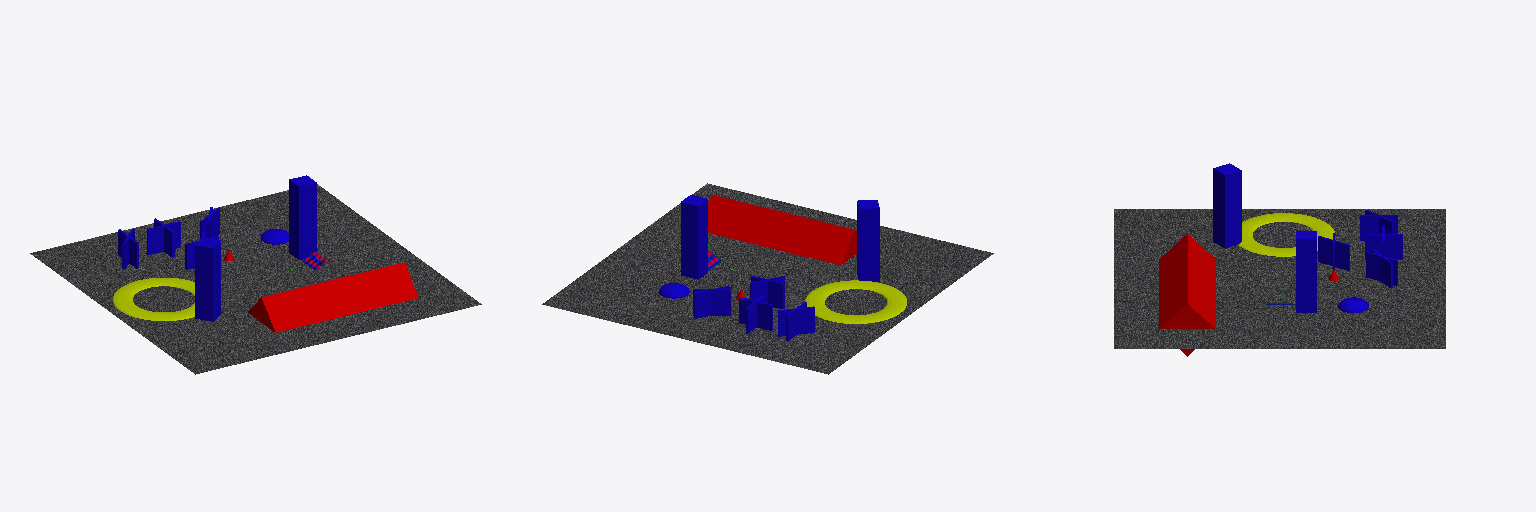
3 renders of one model, left to right at view 1: azimuth 30°, elevation 25°; view 2: azimuth 150°, elevation 25°; view 3: azimuth 270°, elevation 25°, orthographic.
Visible parts, largest first — view 1: Plane, Cube.036, Cube.037, Cube.038, Torus, Cube.044; view 2: Plane, Cube.036, Torus, Cube.037, Cube.038, Cube.045, Cube.044, Cube.042; view 3: Plane, Cube.036, Cube.038, Cube.037, Torus, Cube.040, Cube.043, Cube.041, Cube.046.
Part boxes in pixels (bbox=[...]): Plane: bbox=[30, 184, 481, 374]; Cube.036: bbox=[248, 262, 418, 332]; Cube.037: bbox=[289, 175, 316, 259]; Cube.038: bbox=[195, 237, 220, 321]; Torus: bbox=[113, 278, 194, 320]; Cube.044: bbox=[147, 221, 180, 254]; Plane: bbox=[542, 183, 993, 374]; Cube.036: bbox=[708, 195, 856, 264]; Torus: bbox=[805, 280, 906, 323]; Cube.037: bbox=[681, 195, 707, 279]; Cube.038: bbox=[857, 200, 879, 281]; Cube.045: bbox=[778, 306, 814, 336]; Cube.044: bbox=[739, 297, 772, 330]; Cube.042: bbox=[693, 289, 730, 315]; Plane: bbox=[1114, 209, 1445, 348]; Cube.036: bbox=[1159, 234, 1215, 356]; Cube.038: bbox=[1213, 163, 1241, 248]; Cube.037: bbox=[1296, 231, 1316, 312]; Torus: bbox=[1238, 213, 1334, 256]; Cube.040: bbox=[1318, 236, 1349, 270]; Cube.043: bbox=[1365, 234, 1402, 259]; Cube.041: bbox=[1366, 251, 1397, 285]; Cube.046: bbox=[1360, 215, 1397, 240].
Bounding box in the file's own units: 256 × 86.2 × 256.
9 materials, 1 textured.